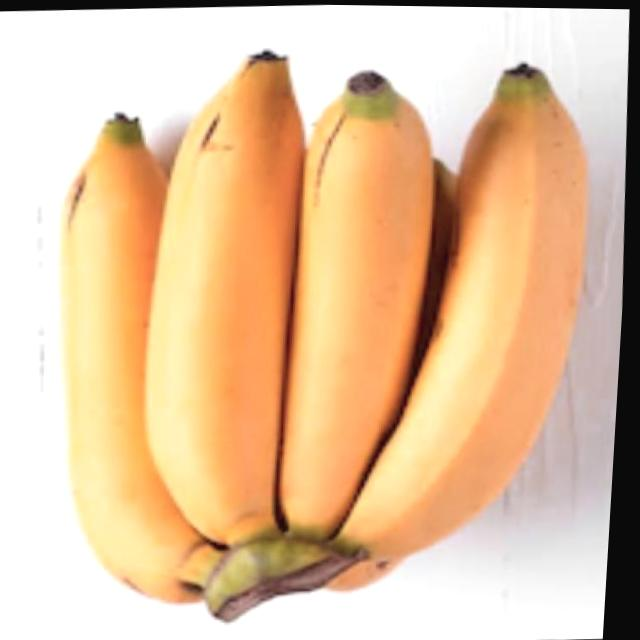Banana: (38, 36, 613, 634)
